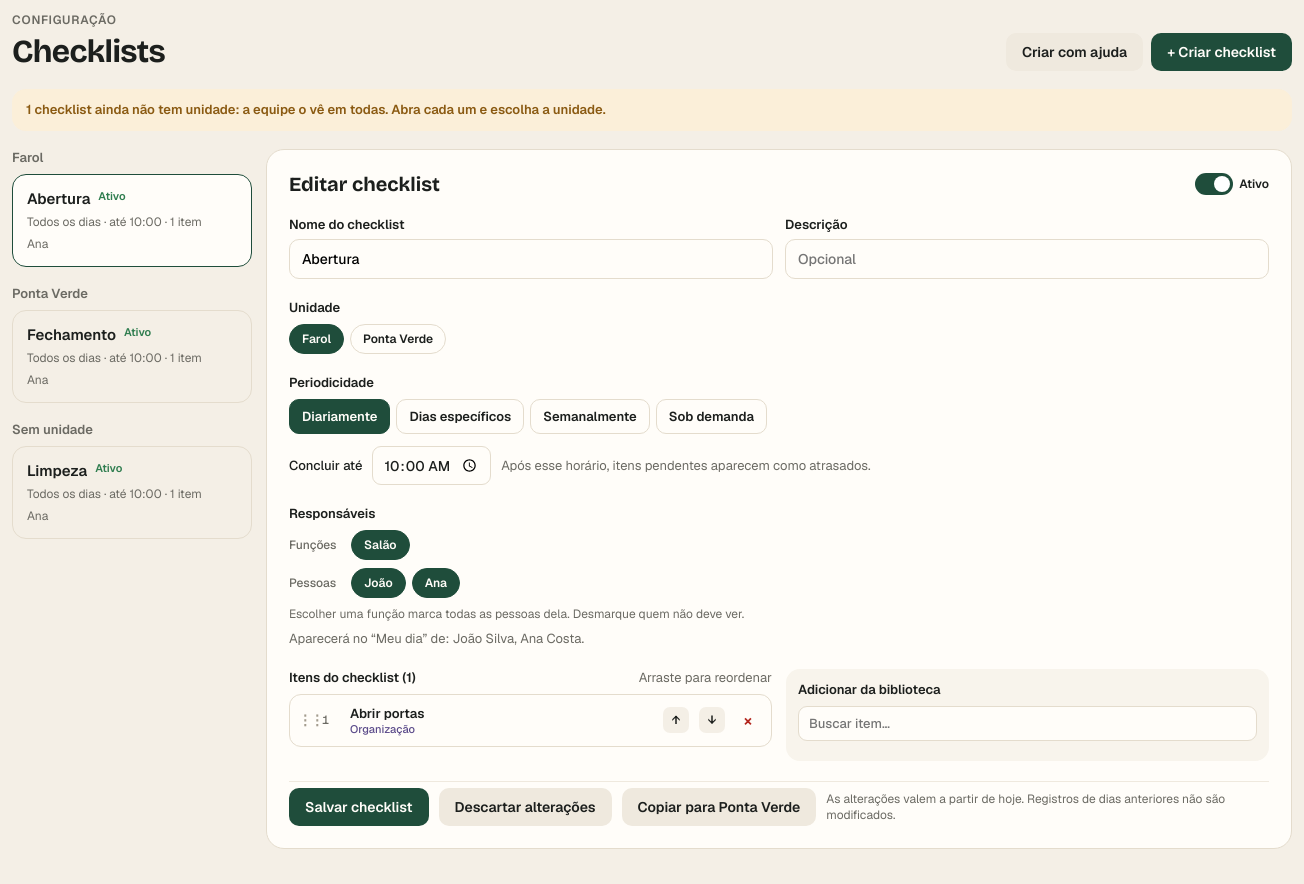
US20 — checklists por unidade › servidor recusa sem unidade e a mensagem aparece (erro)
The image size is (1304, 884).
Expected: the button "Fechamento Ativo Todos os dias · até 10:00 · 1 item Ana" is shown, left=12, top=310, right=252, bottom=403
Click the button "+ Criar checklist": (1222, 52) left=1151, top=33, right=1292, bottom=71
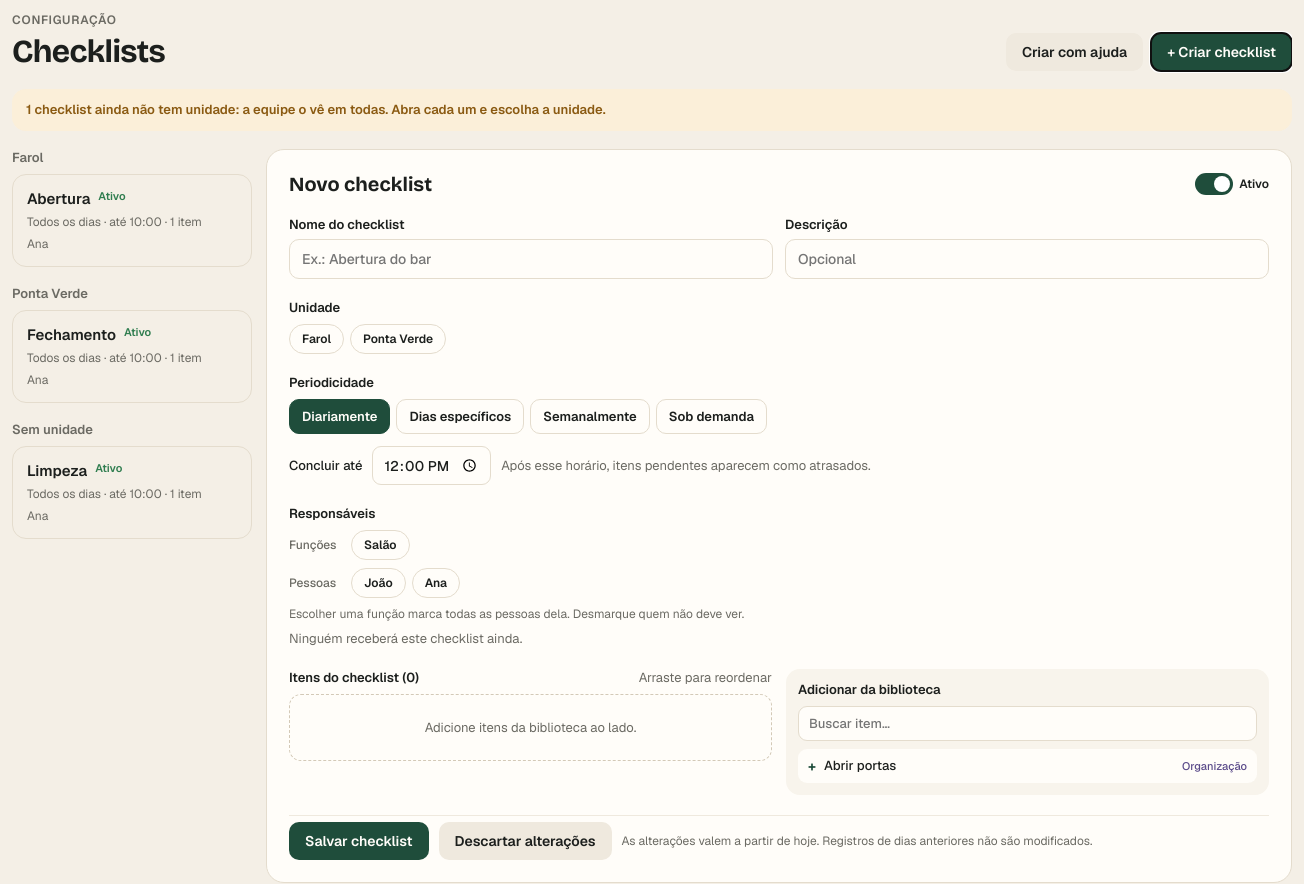
Click the button "Salvar checklist": (359, 841) left=289, top=822, right=429, bottom=860
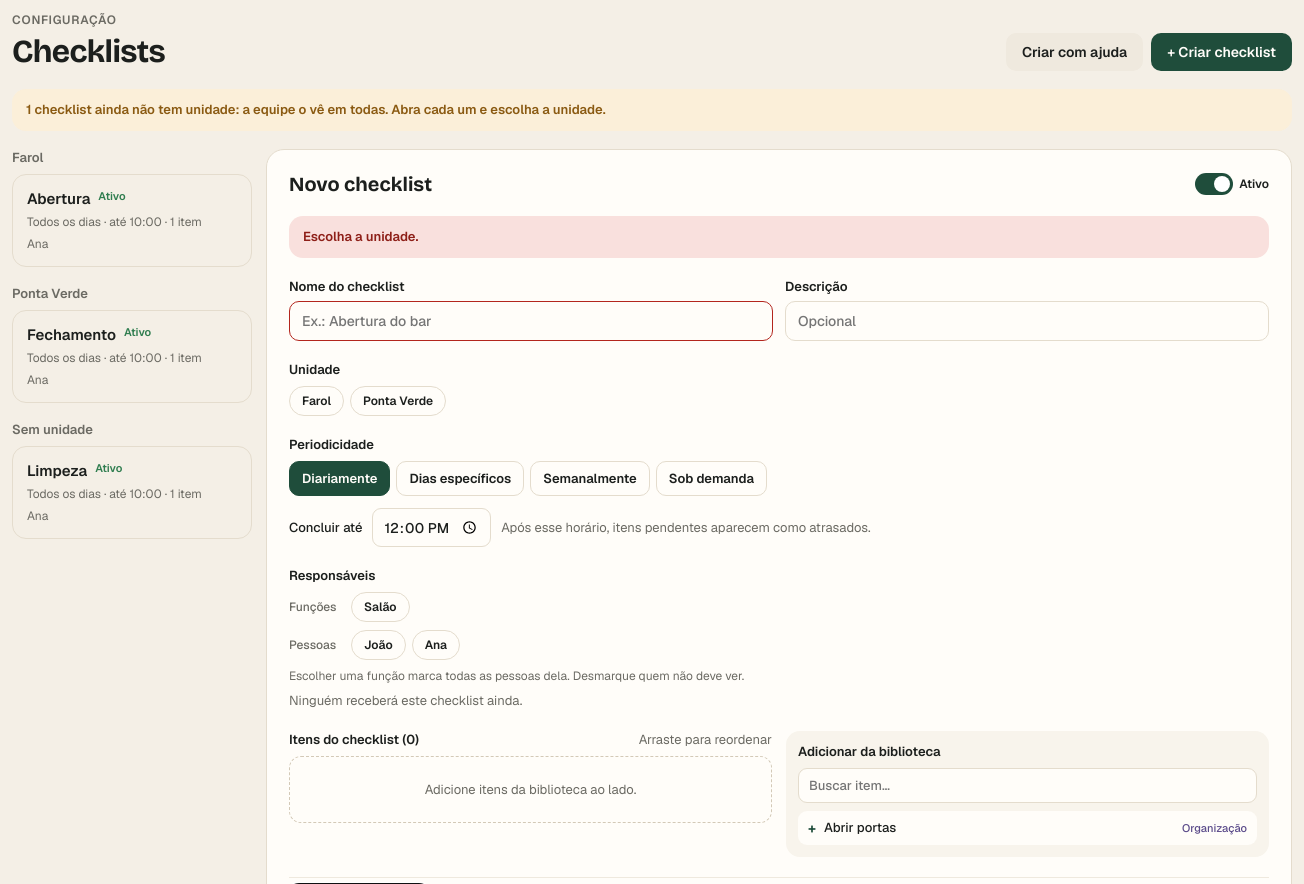
Expected: the text "Escolha a unidade." is shown, left=289, top=216, right=1269, bottom=258
